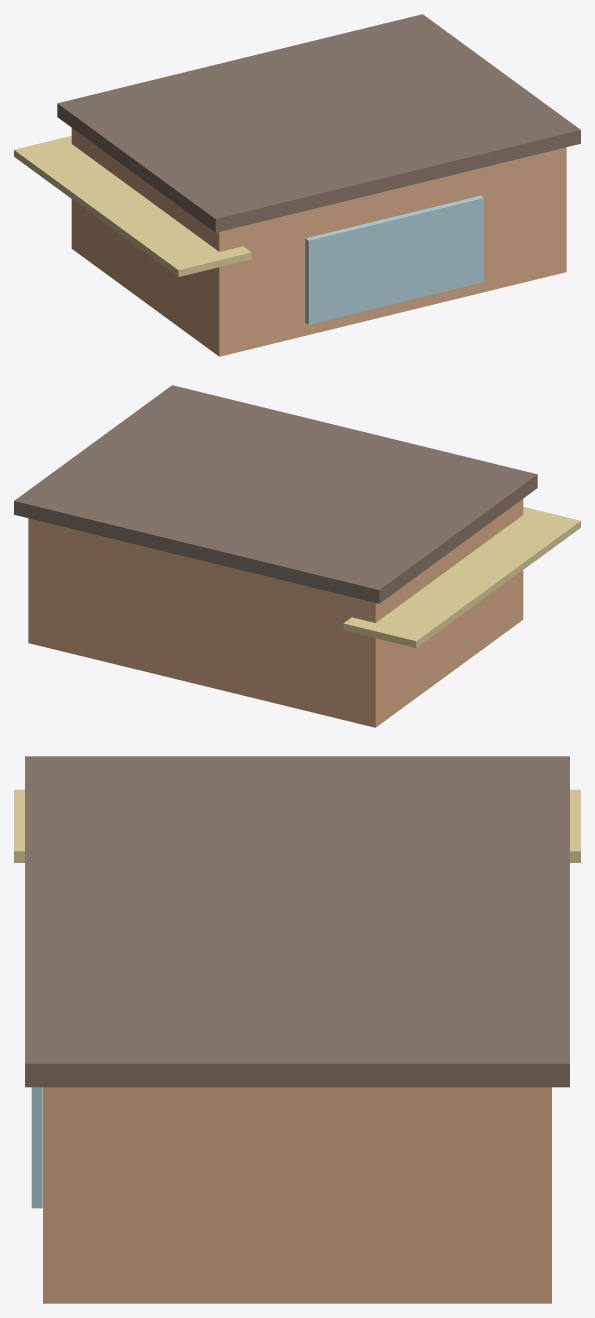
Rendered from cafe.glb.
3 renders of one model, top to bottom at view 1: azimuth 30°, elevation 25°; view 2: azimuth 150°, elevation 25°; view 3: azimuth 270°, elevation 25°, orthographic. The views are drawn at different scales.
Parts seen in each view (by area): view 1: part_01, part_00, part_02, part_03; view 2: part_01, part_00, part_03; view 3: part_01, part_00, part_03, part_02.
Boxes of the visible parts, x1,y1,x2,y2 form: part_01: (57, 14, 580, 232); part_00: (71, 128, 566, 356); part_02: (305, 195, 483, 324); part_03: (14, 136, 251, 276); part_01: (14, 385, 537, 603); part_00: (28, 499, 523, 727); part_03: (343, 507, 580, 647); part_01: (25, 756, 569, 1087); part_00: (43, 1087, 551, 1303); part_03: (14, 789, 580, 862); part_02: (31, 1087, 42, 1208).
Size of the model in its own units: 11.1 by 3.76 by 7.8.
